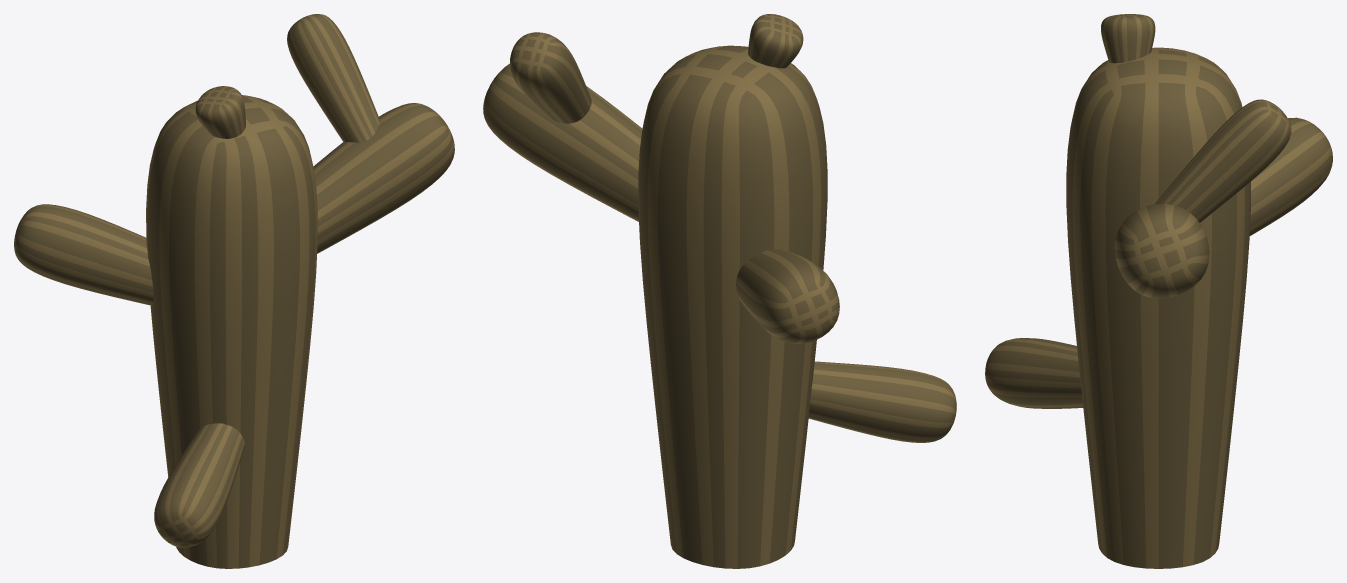
Rendered from Cactus.fbx.
3 views of the same model, side by side, from view 1: azimuth 30°, elevation 25°; view 2: azimuth 150°, elevation 25°; view 3: azimuth 270°, elevation 25° (orthographic). The views are drawn at different scales.
Parts seen in each view (by area): view 1: pCube1, pCube3, pCube2, pCube5, pCube4, pCube6; view 2: pCube1, pCube3, pCube5, pCube2, pCube4, pCube6; view 3: pCube1, pCube4, pCube3, pCube5, pCube2, pCube6.
Boxes of the visible parts, box(x1,y1,x2,y2) form: pCube1: box(146, 95, 317, 568); pCube3: box(313, 103, 454, 253); pCube2: box(14, 204, 153, 305); pCube5: box(154, 423, 244, 547); pCube4: box(287, 14, 379, 142); pCube6: box(195, 86, 245, 138); pCube1: box(638, 45, 827, 568); pCube3: box(483, 63, 642, 221); pCube5: box(808, 361, 956, 442); pCube2: box(736, 249, 839, 343); pCube4: box(510, 32, 591, 123); pCube6: box(748, 14, 803, 68); pCube1: box(1066, 47, 1250, 568); pCube4: box(1155, 99, 1291, 222); pCube3: box(1114, 204, 1209, 298); pCube5: box(985, 338, 1083, 408); pCube2: box(1249, 117, 1332, 235); pCube6: box(1101, 14, 1155, 63).
Size of the model in its own units: 0.2141 by 0.2588 by 0.1576.
Materials: 1 (1 with a texture image).
